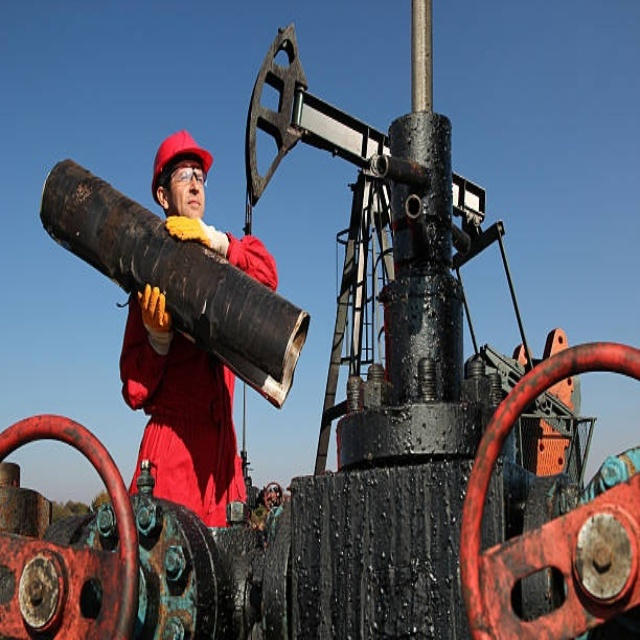Gafas: (168, 166, 208, 187)
Guantes: (166, 215, 230, 258), (138, 282, 174, 343)
Sin_mascara: (184, 193, 201, 212)
